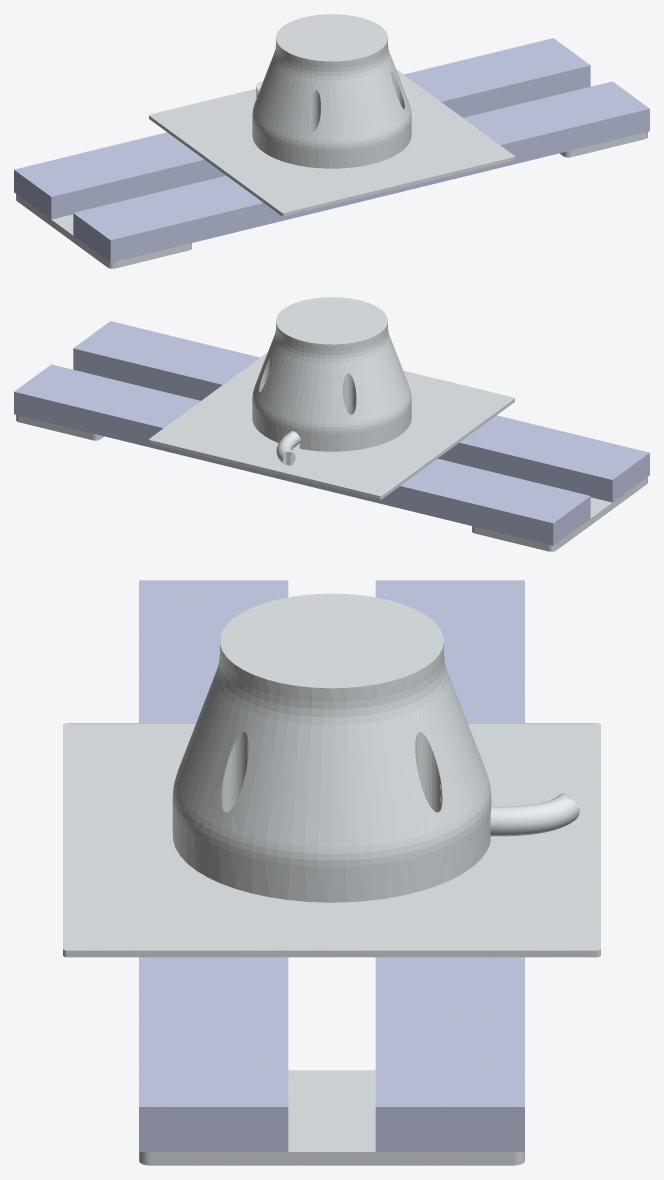
3 renders of one model, top to bottom at view 1: azimuth 30°, elevation 25°; view 2: azimuth 150°, elevation 25°; view 3: azimuth 270°, elevation 25°, orthographic. The views are drawn at different scales.
Parts seen in each view (by area): view 1: base_link.002; view 2: base_link.002; view 3: base_link.002.
Boxes of the visible parts, left/top/right/bottom form: base_link.002: left=14, top=14, right=649, bottom=268; base_link.002: left=14, top=297, right=649, bottom=551; base_link.002: left=63, top=580, right=600, bottom=1165.
Size of the model in its own units: 0.5 by 0.1158 by 0.216.
Materials: 1 (1 with a texture image).
